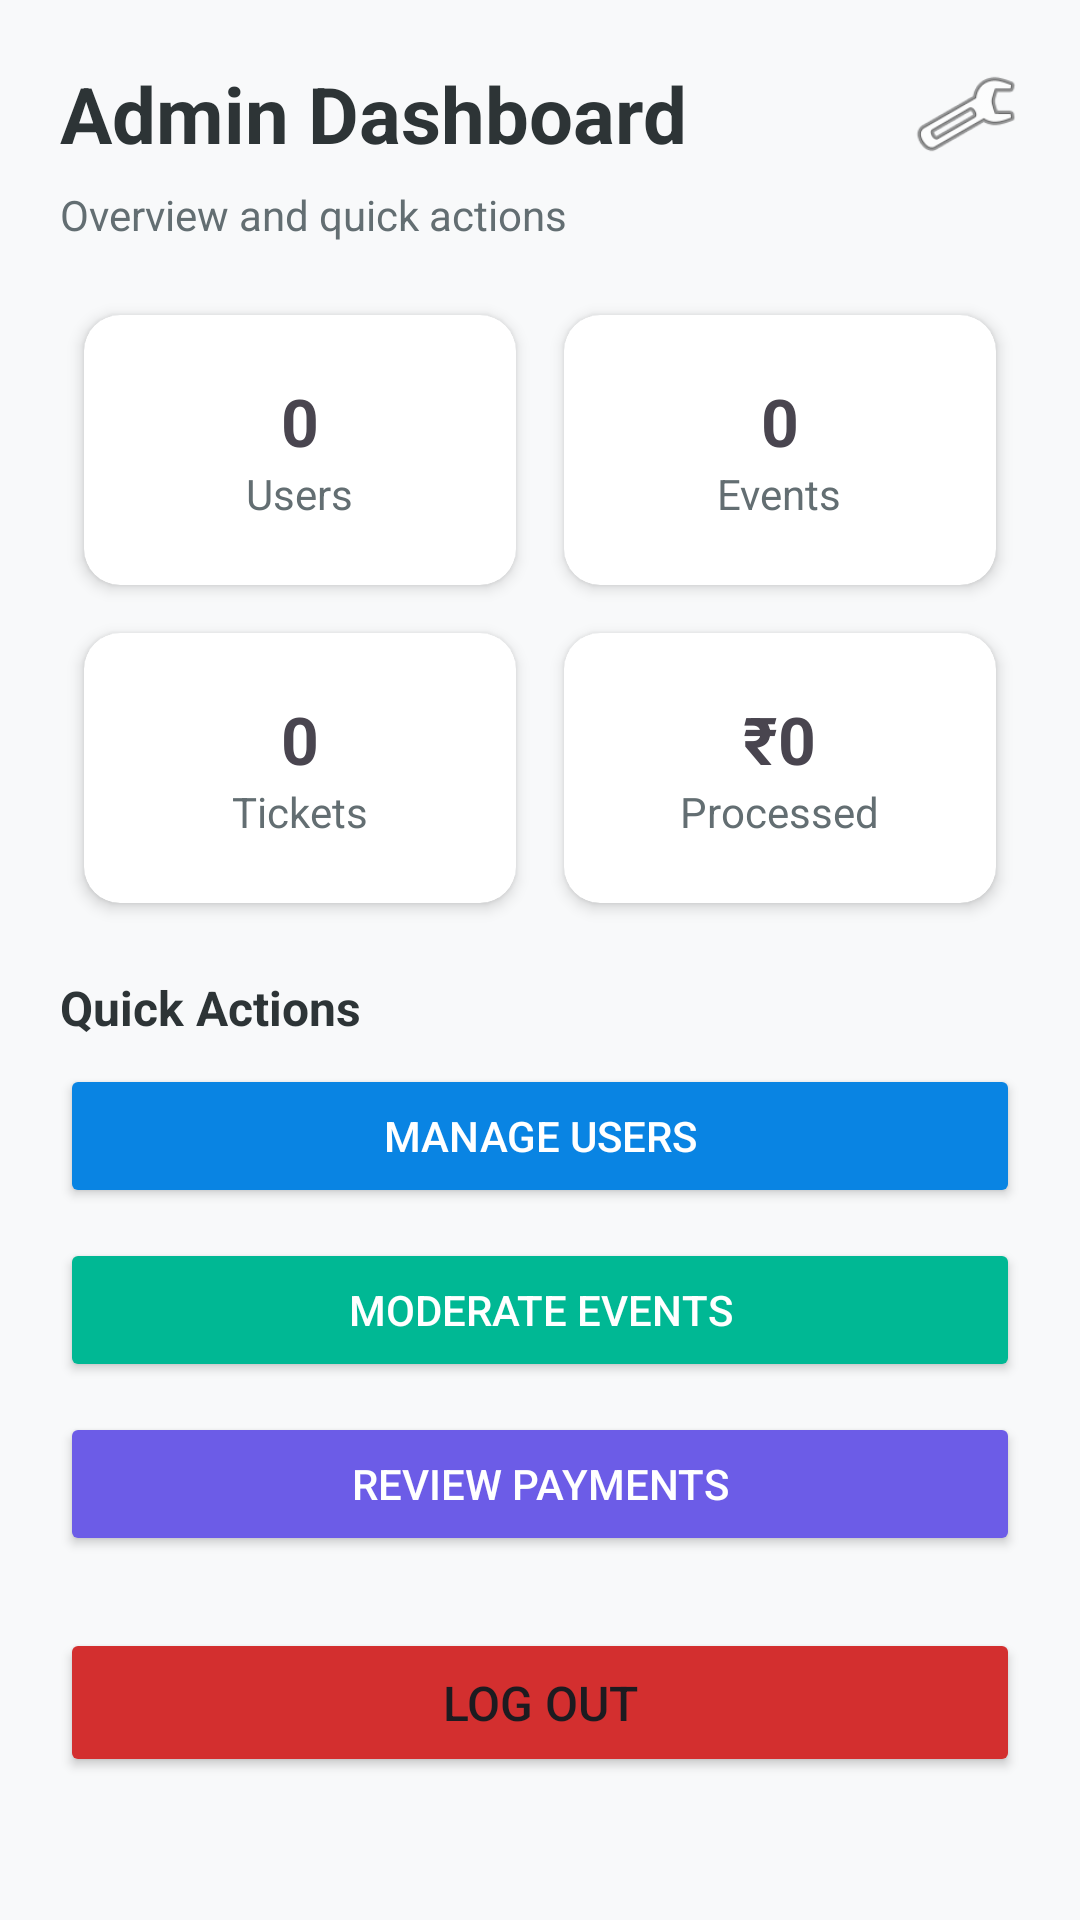

Icons on this 1080 × 1920 Android screen, each with its box as (x1=x1, y1=y1, x2=x2, y2=y2):
manage: (x1=917, y1=77, x2=1015, y2=151)
